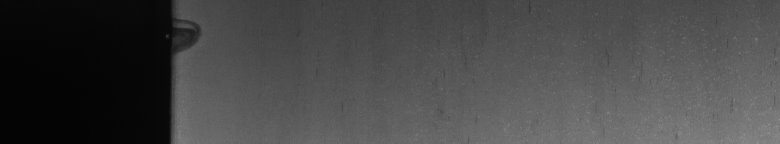hb: (180, 16, 204, 56)
